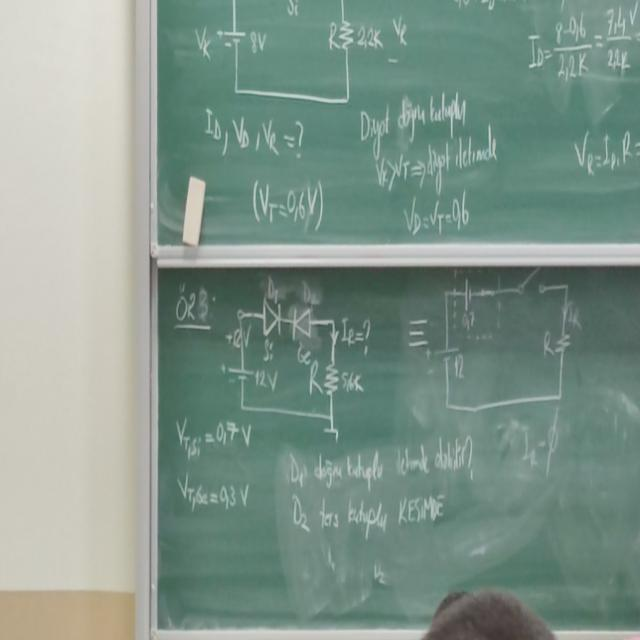image: (410, 265, 583, 438), (218, 272, 378, 448), (188, 0, 412, 109)
math: (510, 0, 640, 103), (168, 412, 262, 514), (247, 173, 334, 239), (198, 112, 308, 160), (394, 191, 486, 238), (567, 123, 640, 182)
text: (284, 443, 482, 533), (352, 92, 508, 188)
